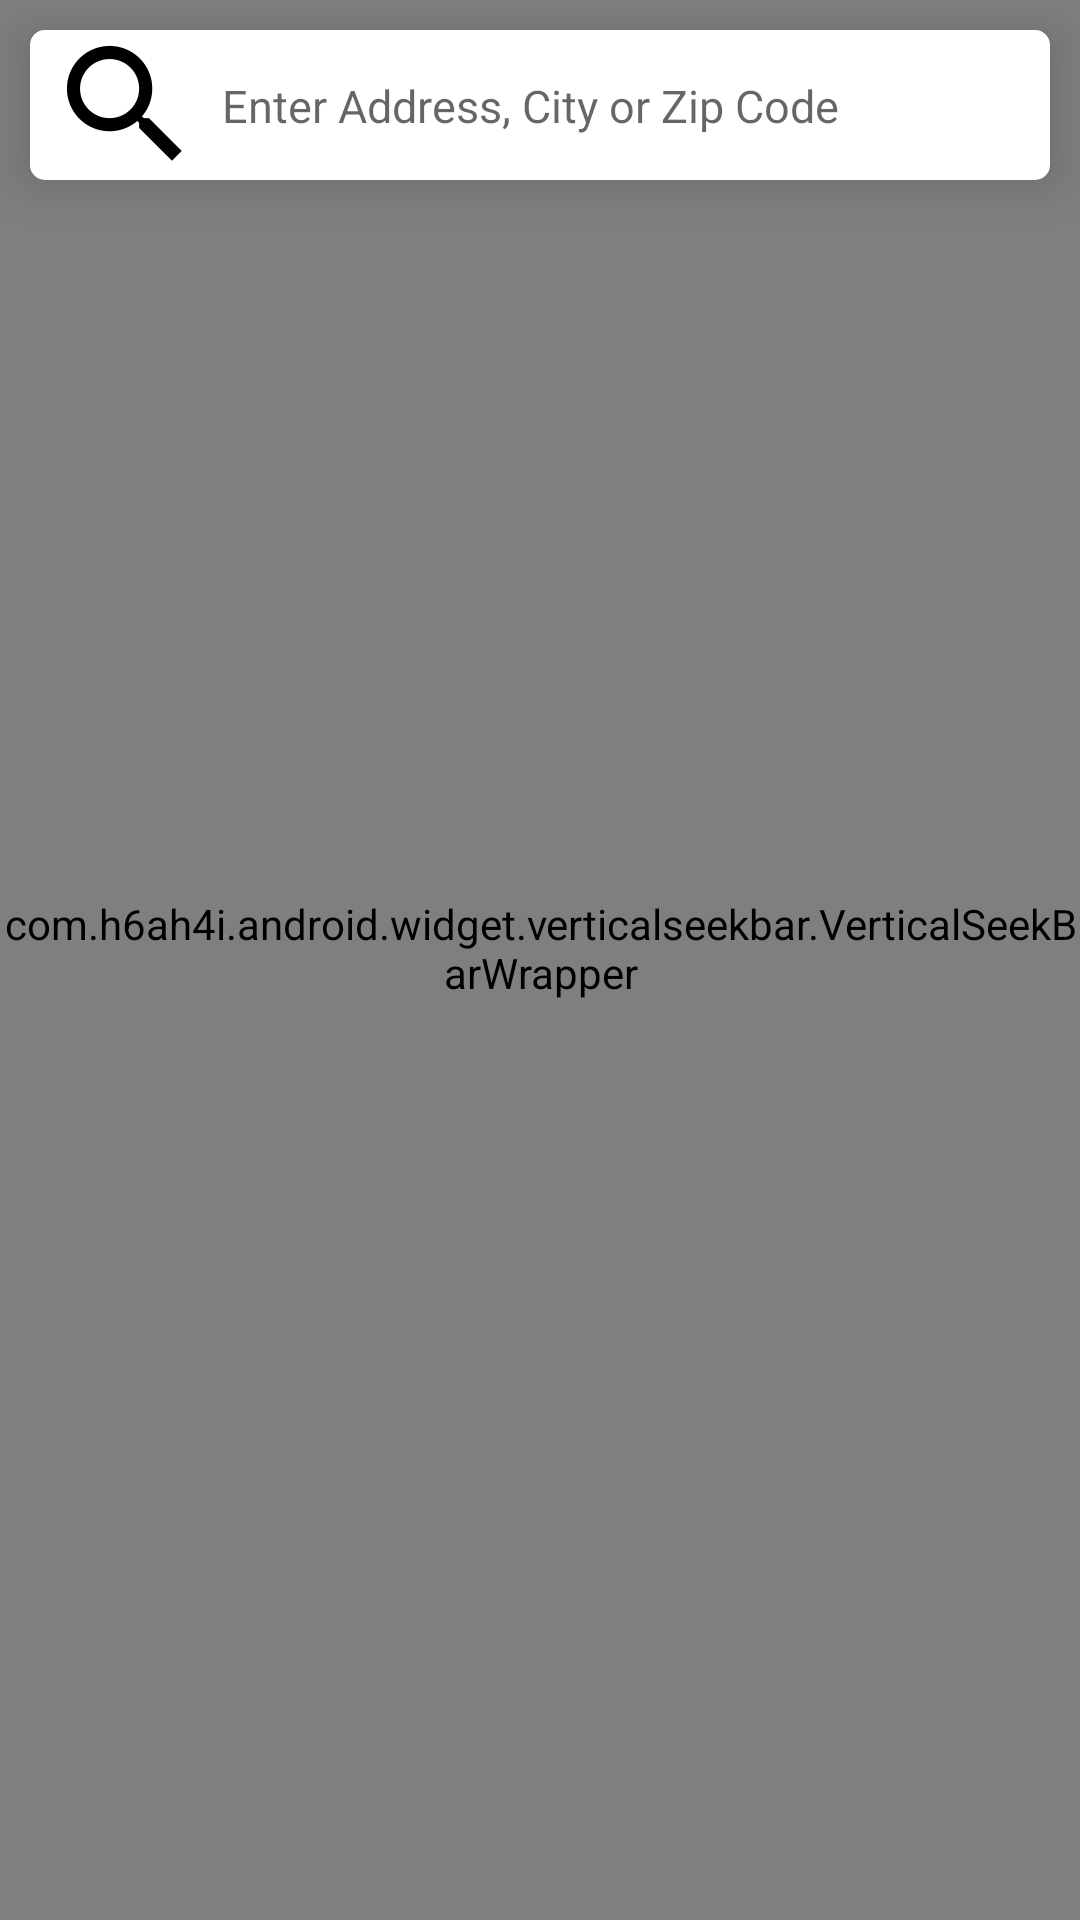

Icon click points for this 1080*1920 phone screenshot, format (x=x, y=y):
magnify: (x=124, y=103)
